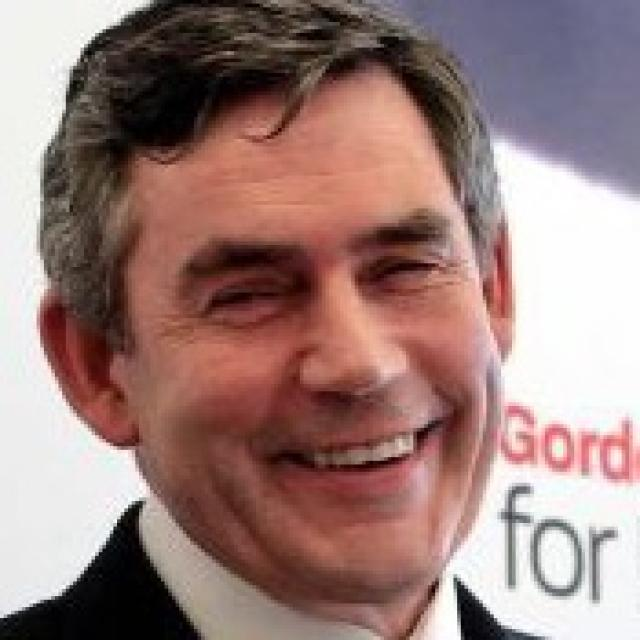Normal: (123, 65, 507, 598)
